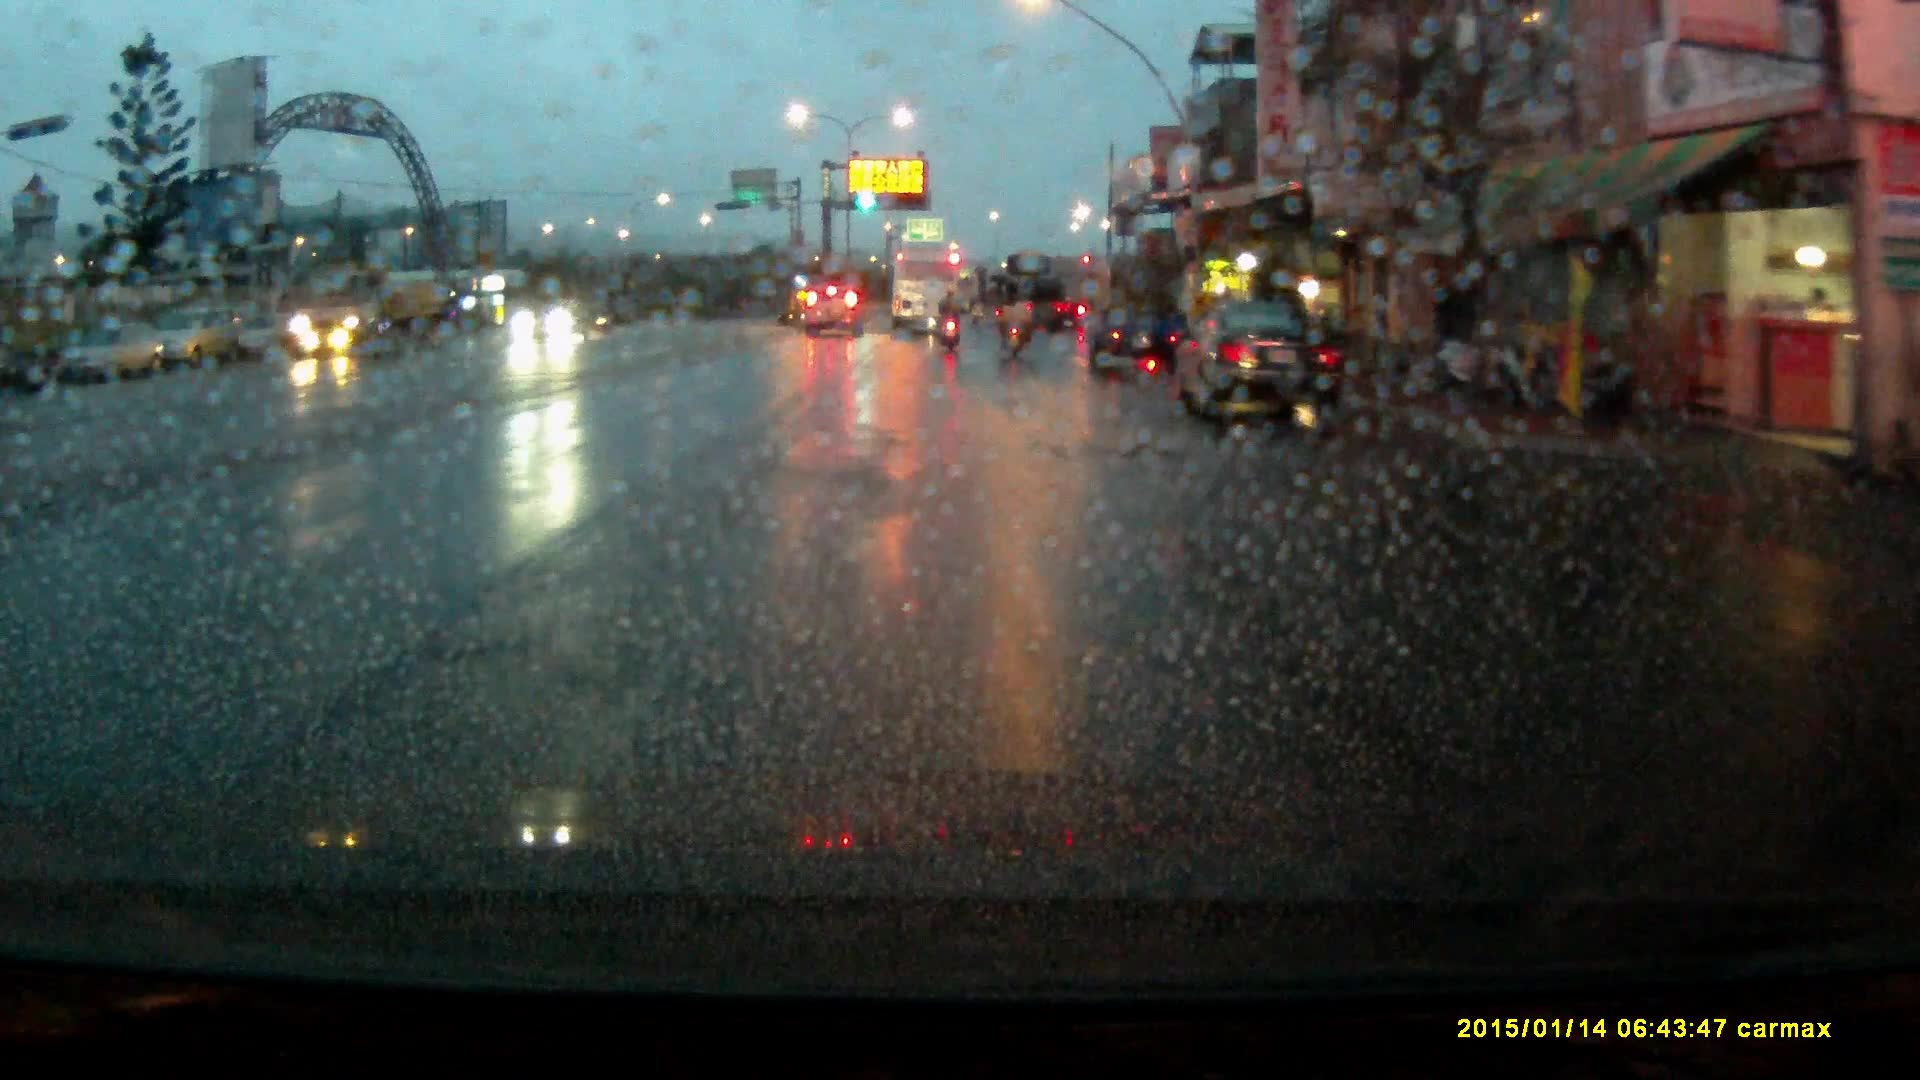rider: (994, 276, 1029, 359), (938, 283, 965, 349)
vehicle: (1170, 302, 1353, 428), (284, 261, 452, 354), (1083, 257, 1189, 367), (70, 322, 163, 385), (143, 304, 238, 367), (891, 248, 958, 336), (1005, 252, 1072, 337), (803, 277, 866, 337), (514, 300, 584, 341)
